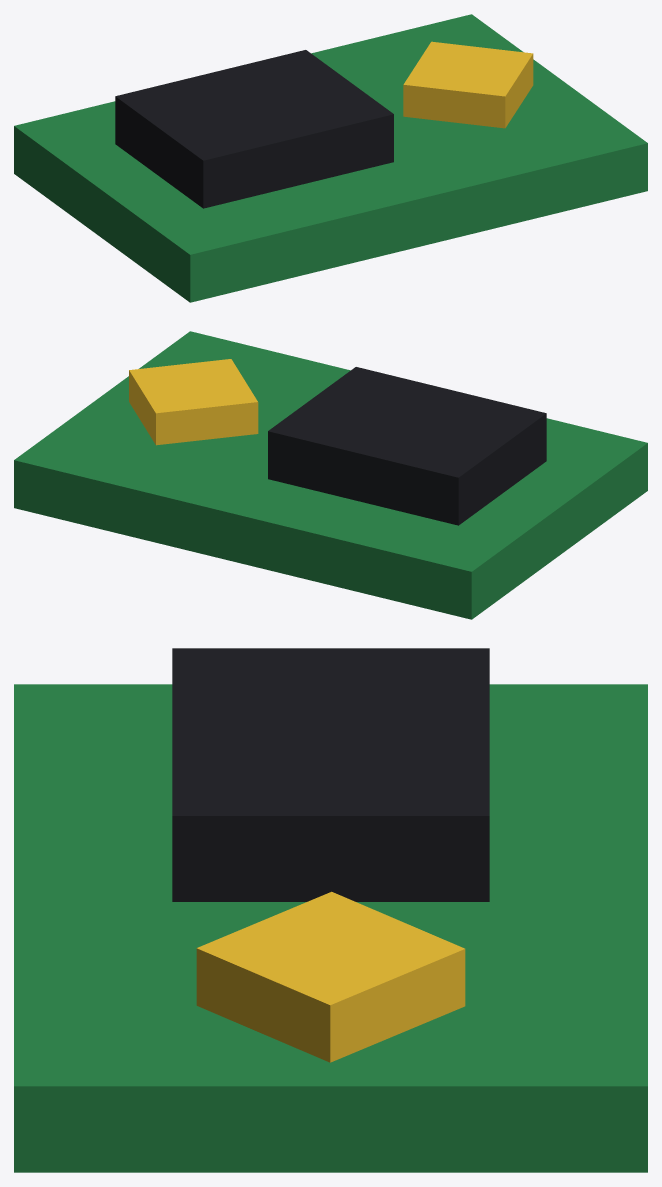
File: karaoke_tuner_chip.glb
3 renders of one model, top to bottom at view 1: azimuth 30°, elevation 25°; view 2: azimuth 150°, elevation 25°; view 3: azimuth 270°, elevation 25°, orthographic. The views are drawn at different scales.
Visible parts, largest first — view 1: board_chip_green, chip_chip_black, note_chip_gold; view 2: board_chip_green, chip_chip_black, note_chip_gold; view 3: board_chip_green, chip_chip_black, note_chip_gold.
Part boxes in pixels (x1=…): board_chip_green: x1=14, y1=14, x2=647, y2=302; chip_chip_black: x1=115, y1=50, x2=393, y2=208; note_chip_gold: x1=403, y1=41, x2=533, y2=128; board_chip_green: x1=14, y1=331, x2=647, y2=619; chip_chip_black: x1=268, y1=367, x2=546, y2=525; note_chip_gold: x1=129, y1=359, x2=258, y2=445; board_chip_green: x1=14, y1=684, x2=647, y2=1172; chip_chip_black: x1=172, y1=648, x2=489, y2=901; note_chip_gold: x1=196, y1=891, x2=465, y2=1062.
Size of the model in its own units: 0.06 by 0.012 by 0.04.
